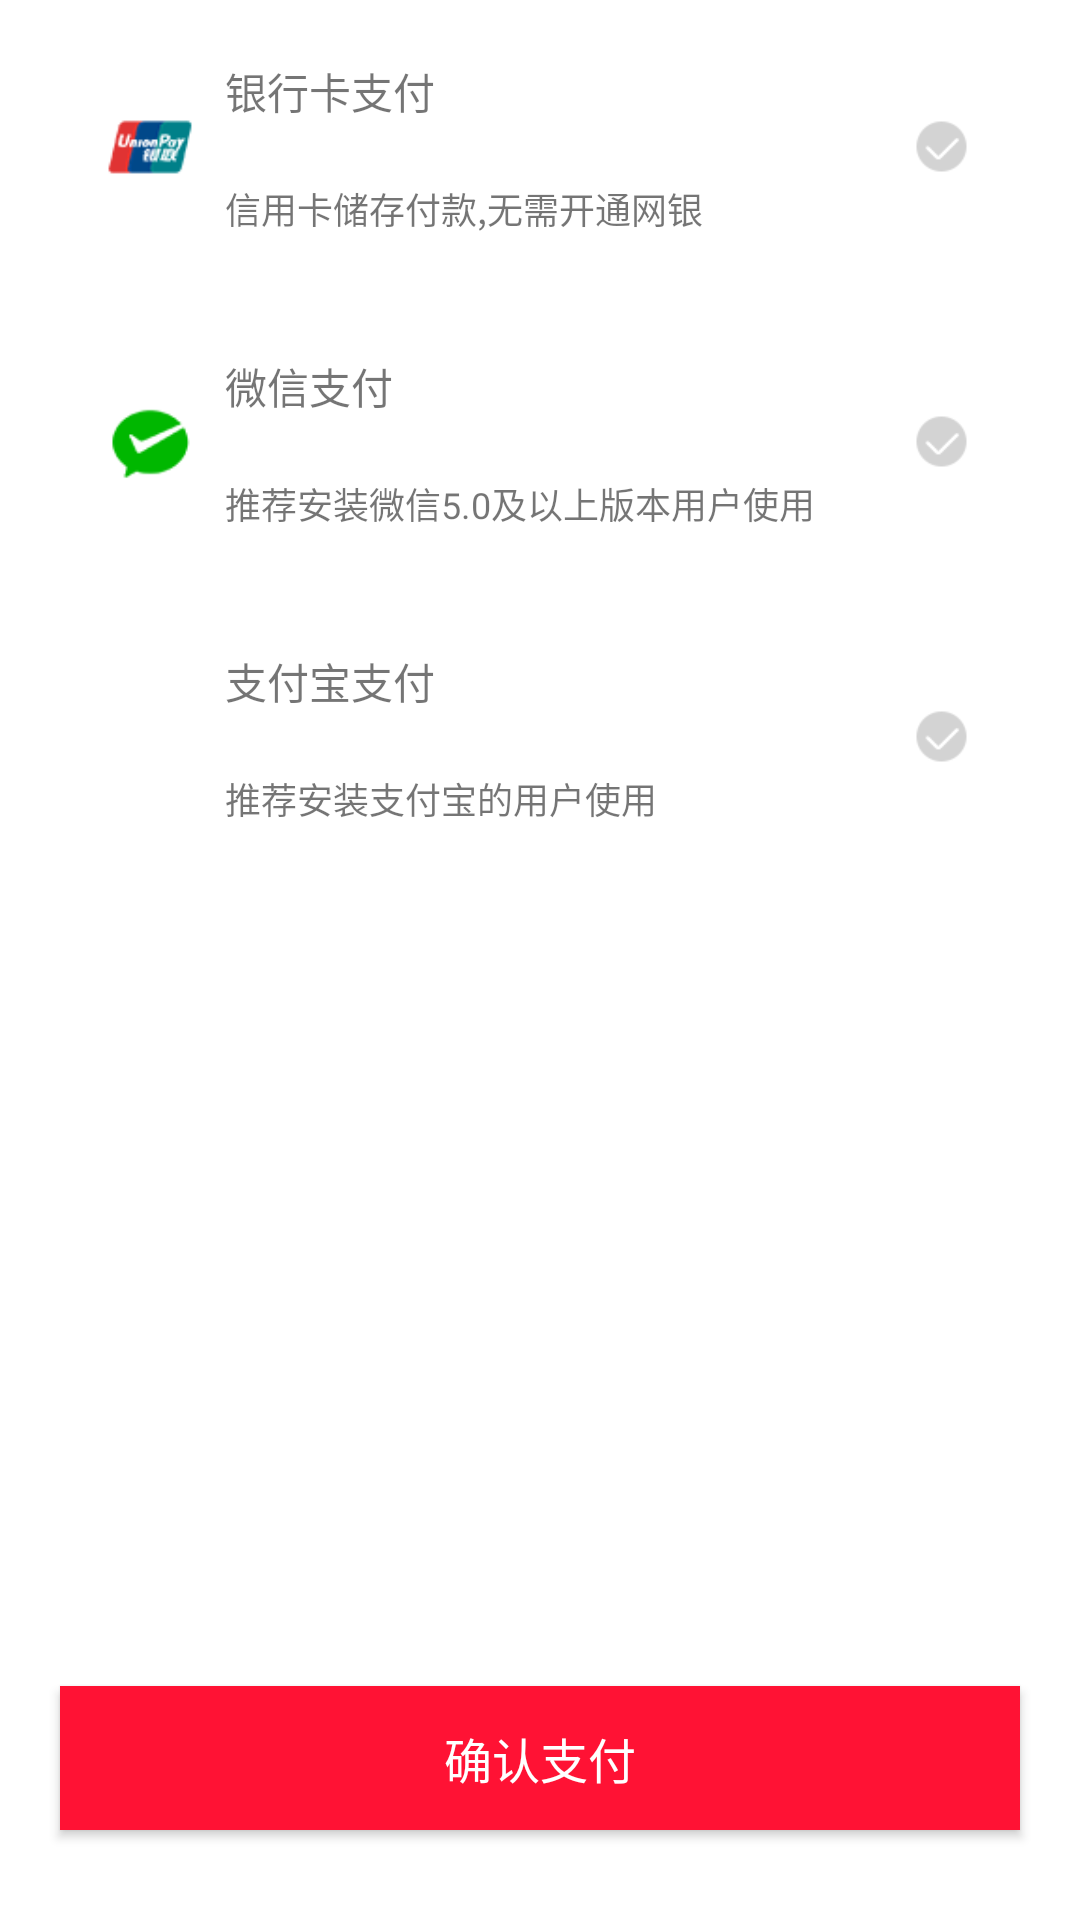

Where to tap for icons on this 1080x1920 app screen, as (x,y):
checkbox scheme: (941,146), (941,441), (941,736)
